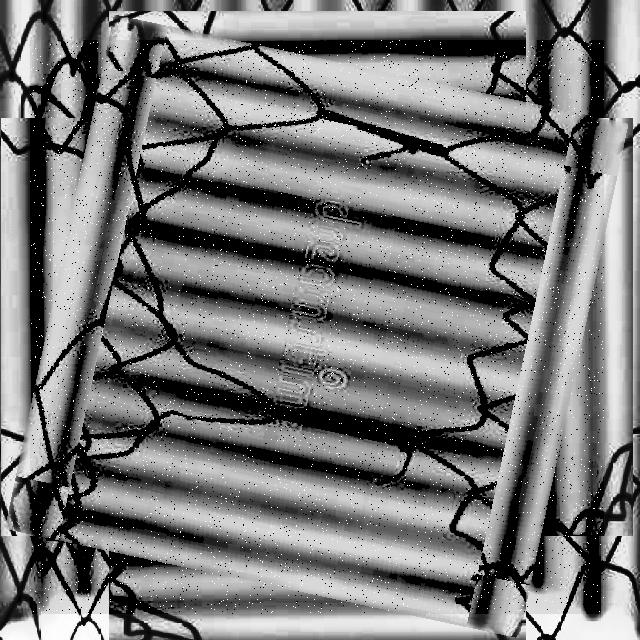anomaly-fence: (30, 40, 604, 614)
